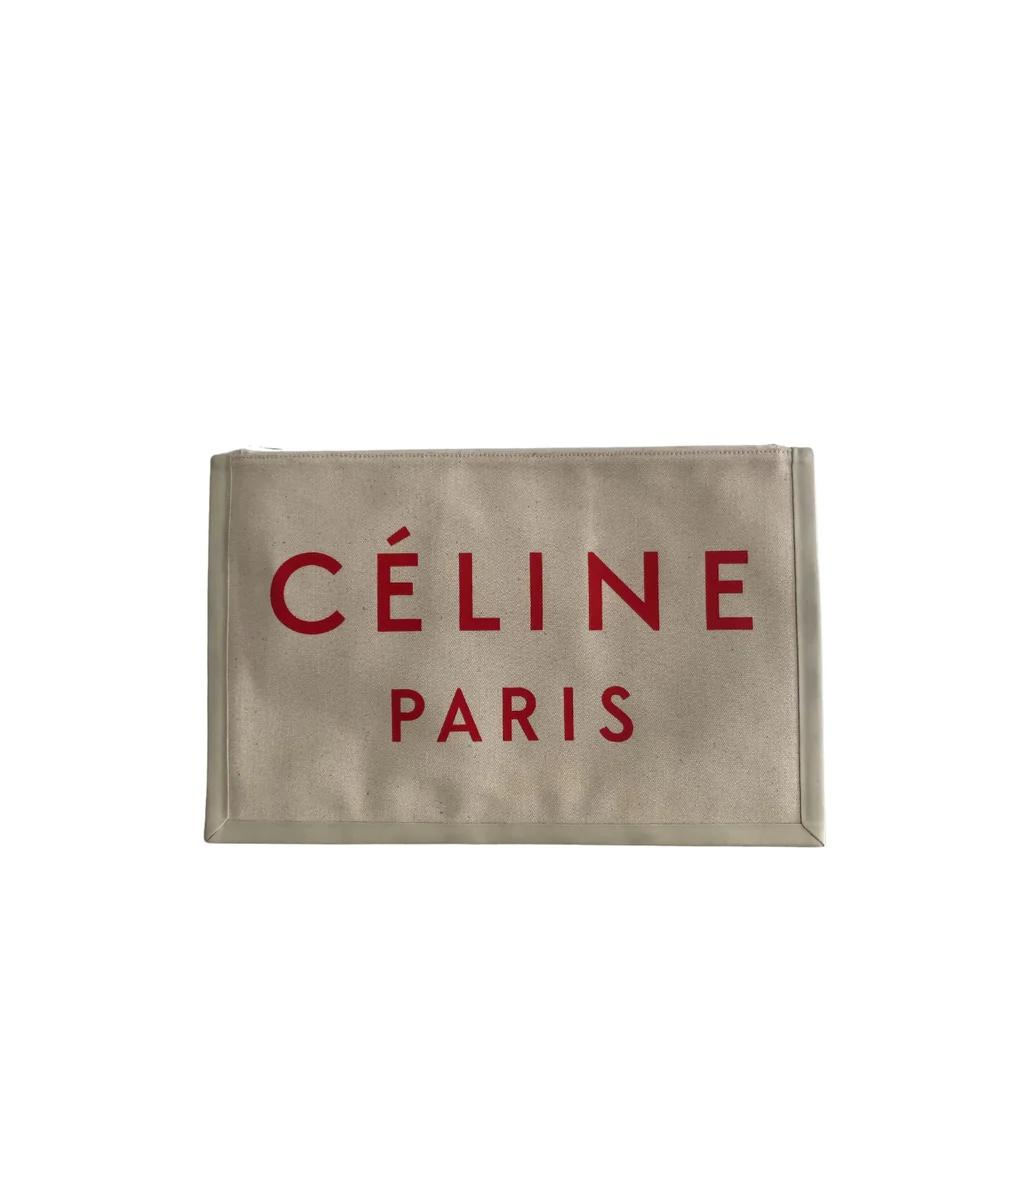CELINE: (272, 522, 757, 636)
